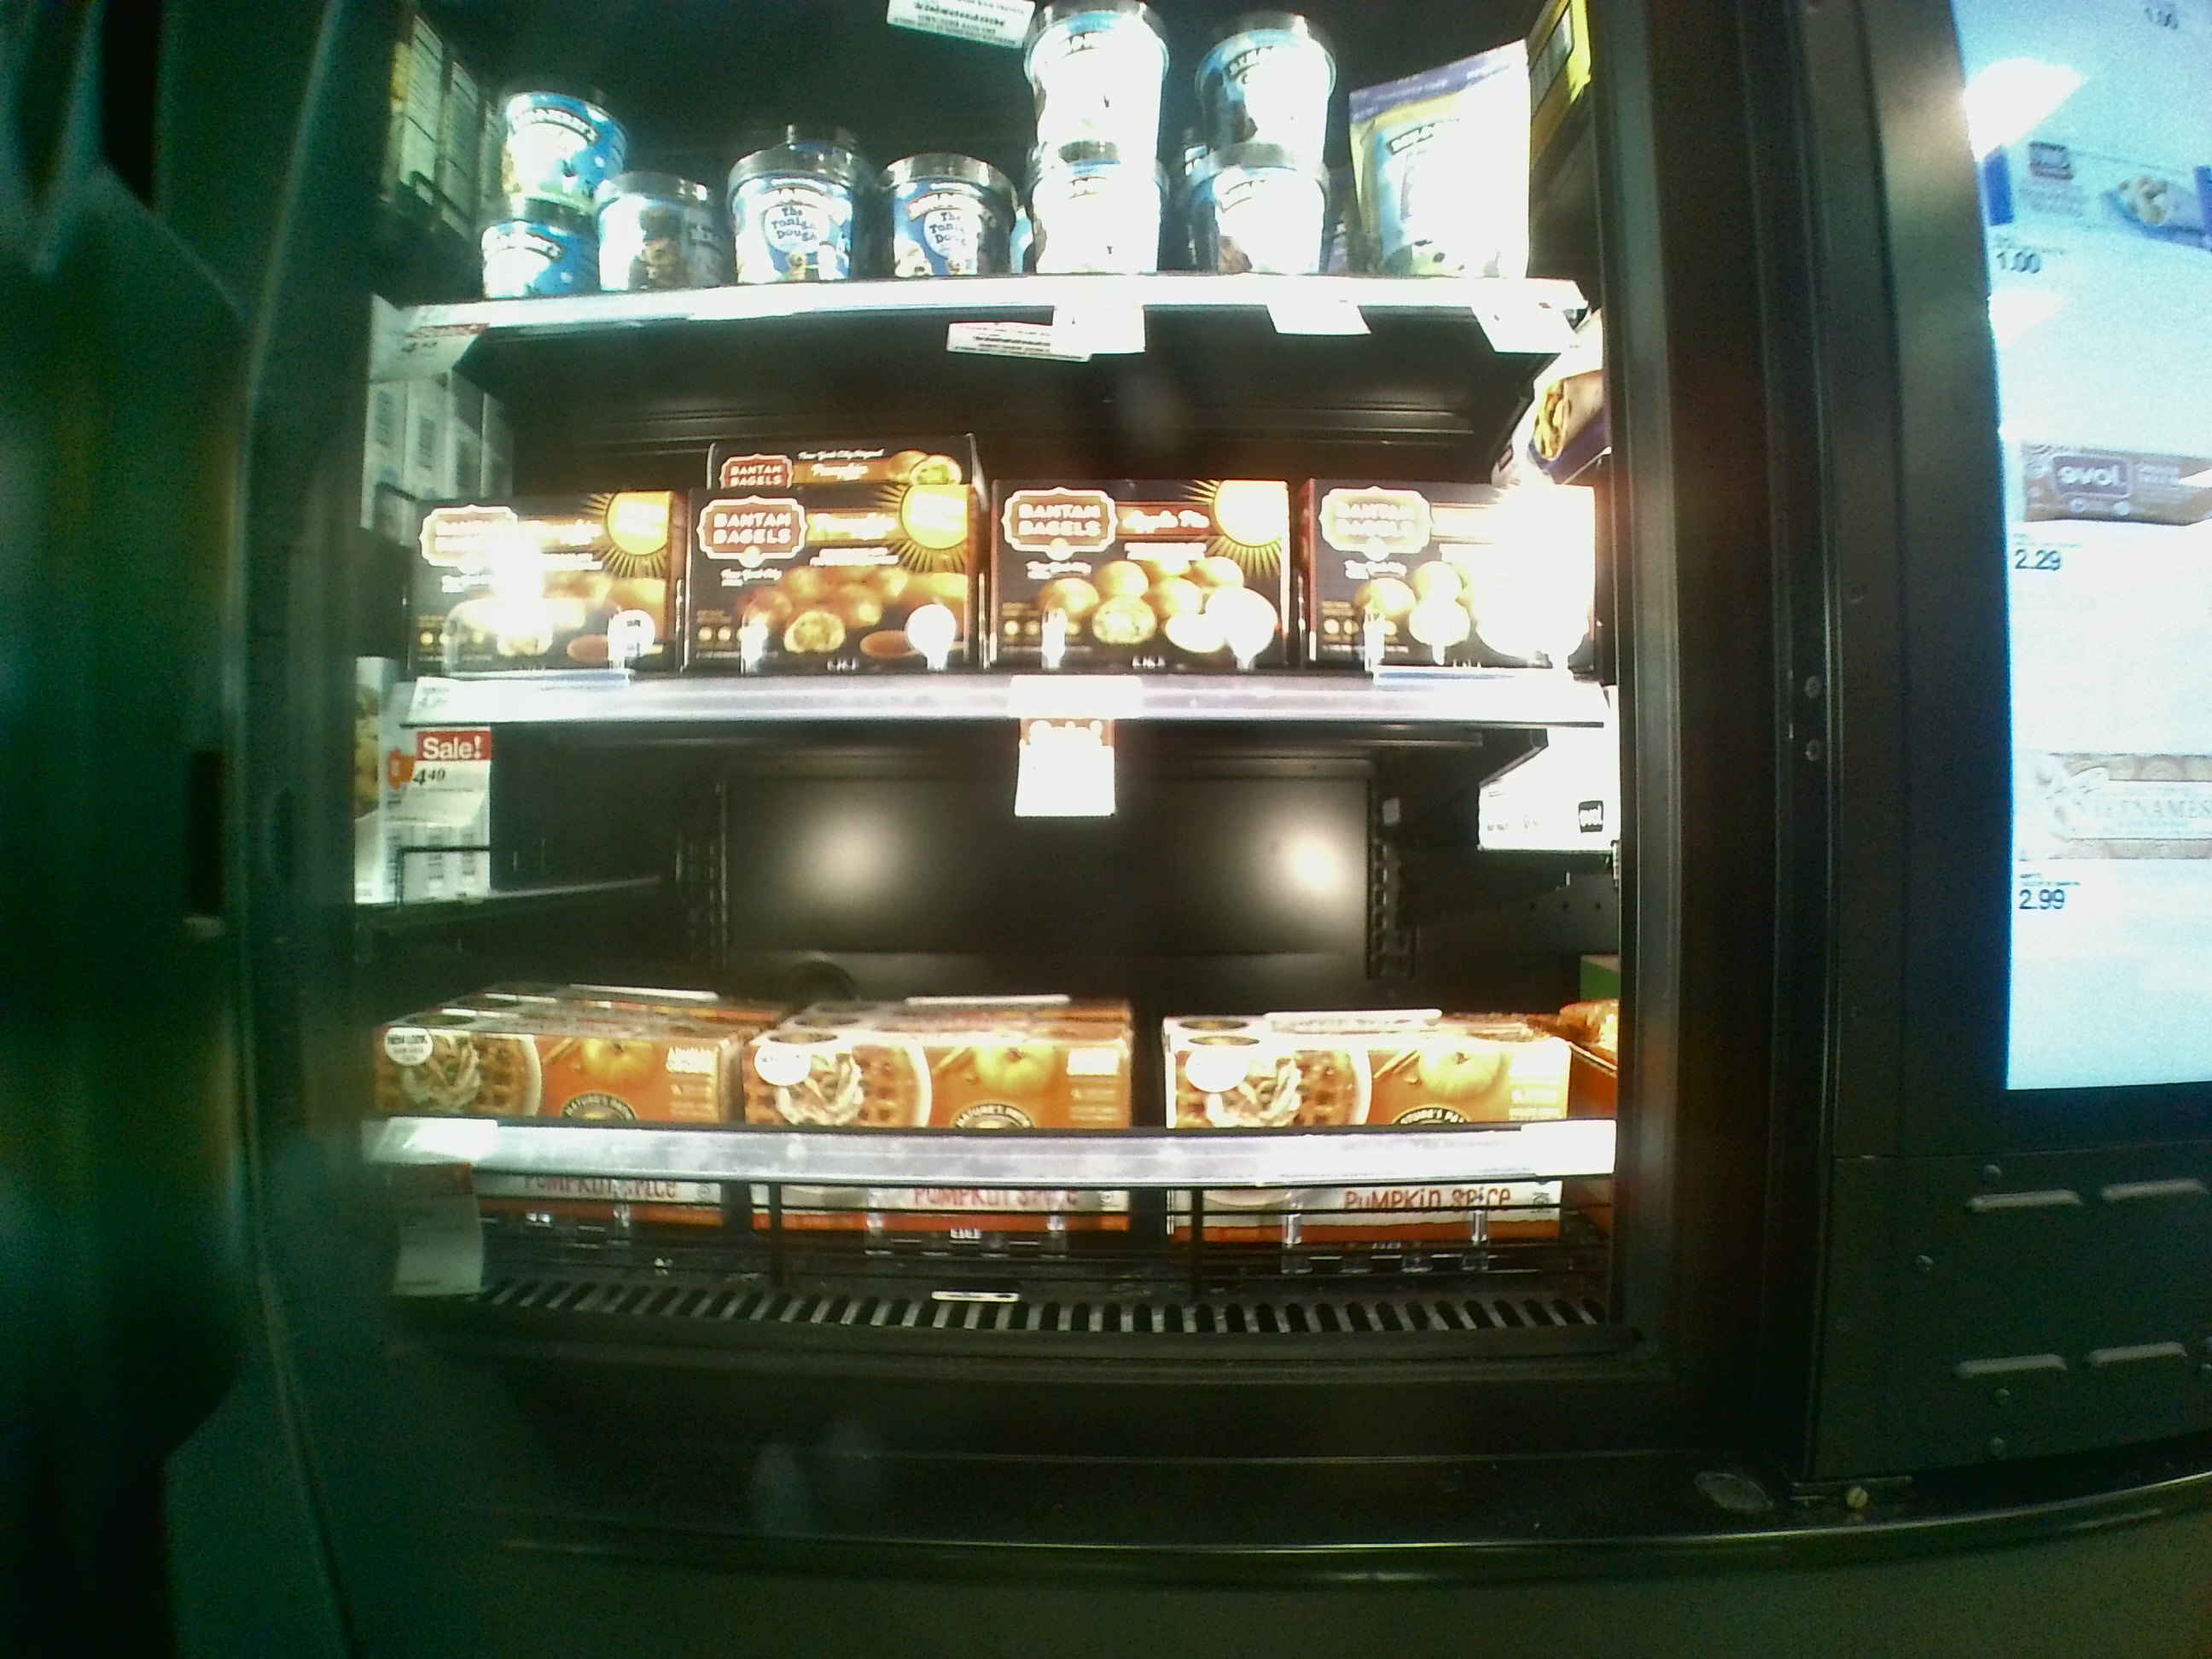shelf: (383, 688, 1599, 1335), (418, 310, 1602, 708)
